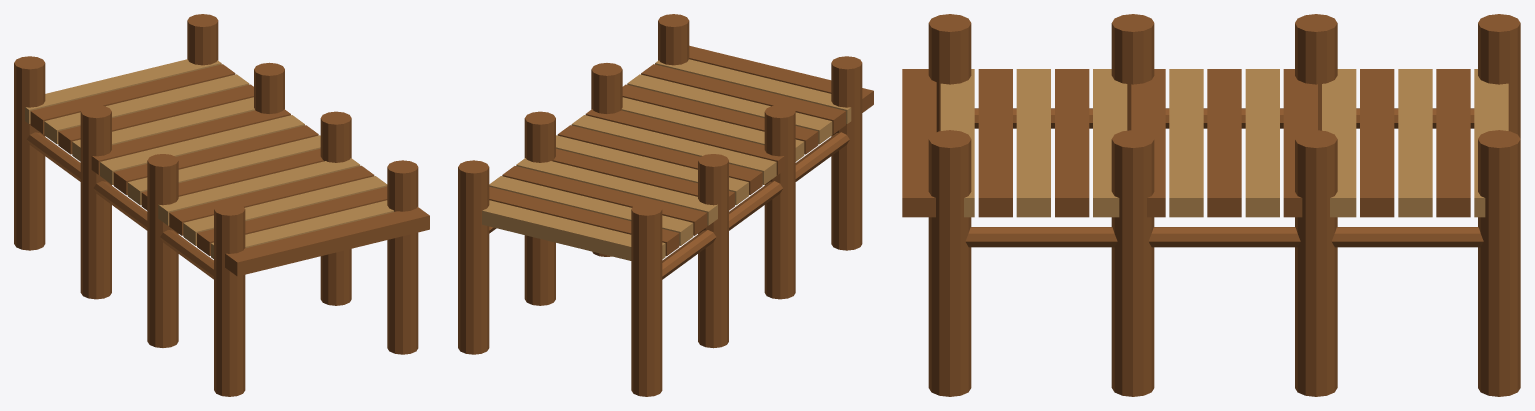
File: pier_section.glb
3 views of the same model, side by side, from view 1: azimuth 30°, elevation 25°; view 2: azimuth 150°, elevation 25°; view 3: azimuth 270°, elevation 25° (orthographic). The views are drawn at different scales.
Parts seen in each view (by area): view 1: pier_section_pc; view 2: pier_section_pc; view 3: pier_section_pc.
Boxes of the visible parts, x1,y1,x2,y2 form: pier_section_pc: [14, 14, 429, 396]; pier_section_pc: [458, 14, 873, 396]; pier_section_pc: [902, 14, 1520, 396].
Bounding box in the file's own units: 2.08 × 1.8 × 4.05.
